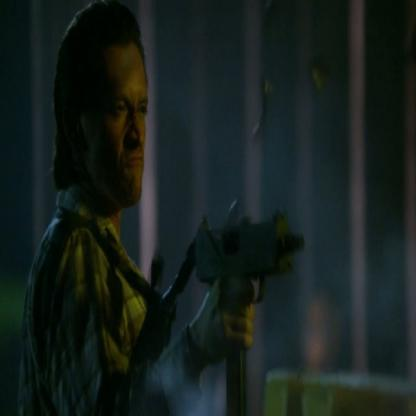Guns: (193, 192, 306, 415)
